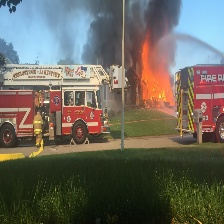fire: (131, 29, 178, 112)
